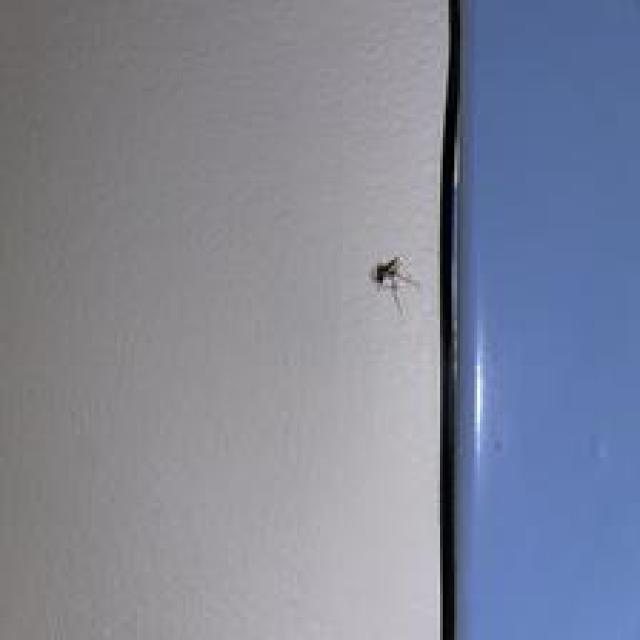Culex: (370, 253, 419, 316)
